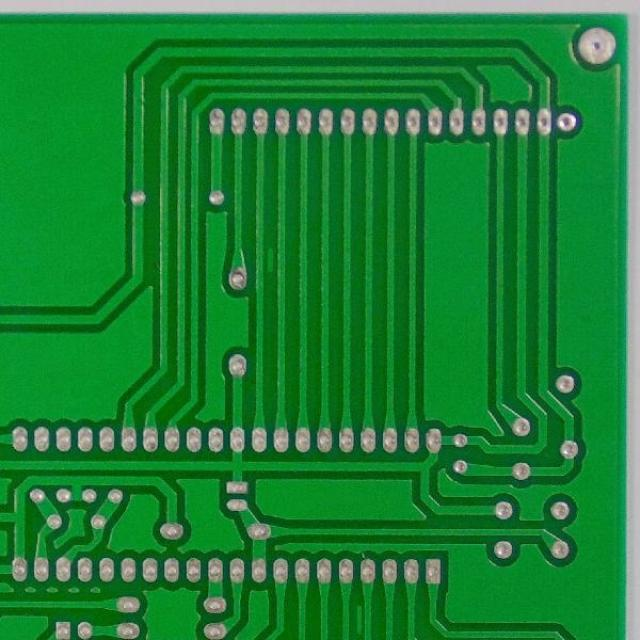spurious_copper: (262, 244, 282, 274), (352, 599, 366, 639)
